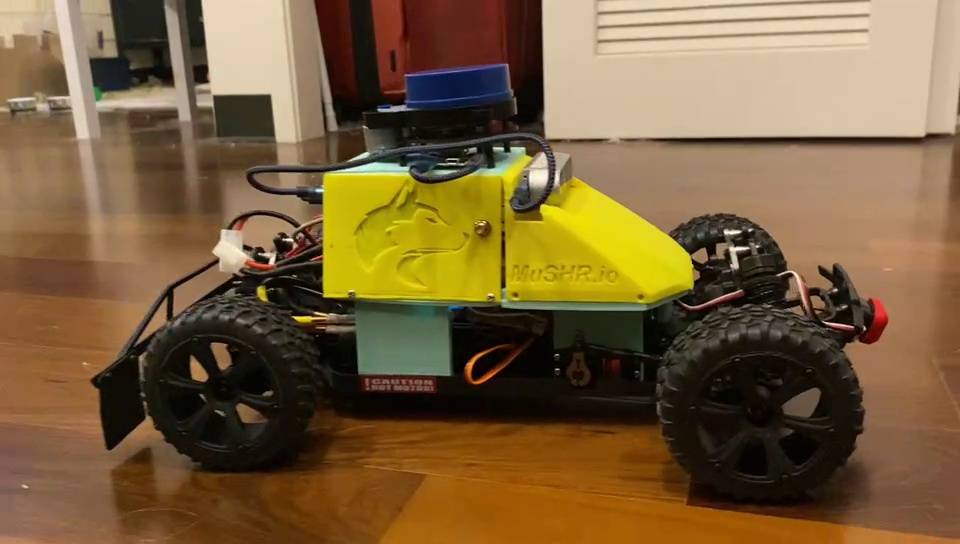mushr_car: (96, 60, 888, 508)
